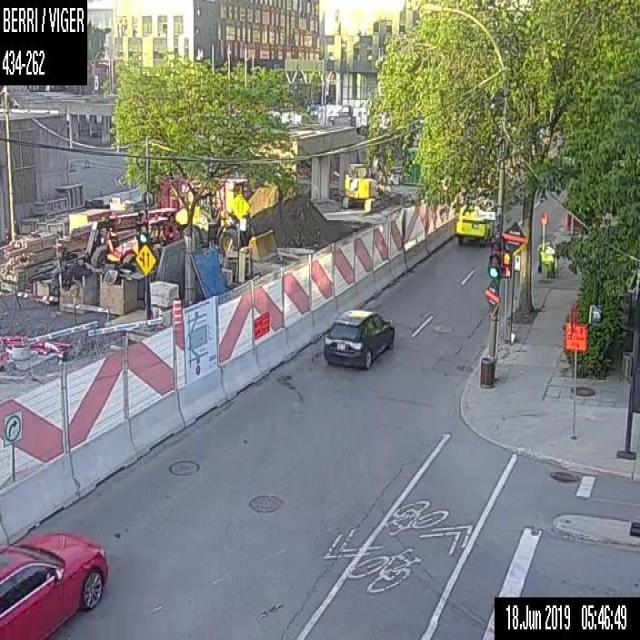construction: (0, 98, 497, 548), (563, 296, 588, 440), (171, 296, 182, 324)
vehicle: (0, 526, 107, 638), (322, 307, 394, 368), (454, 210, 494, 246)
